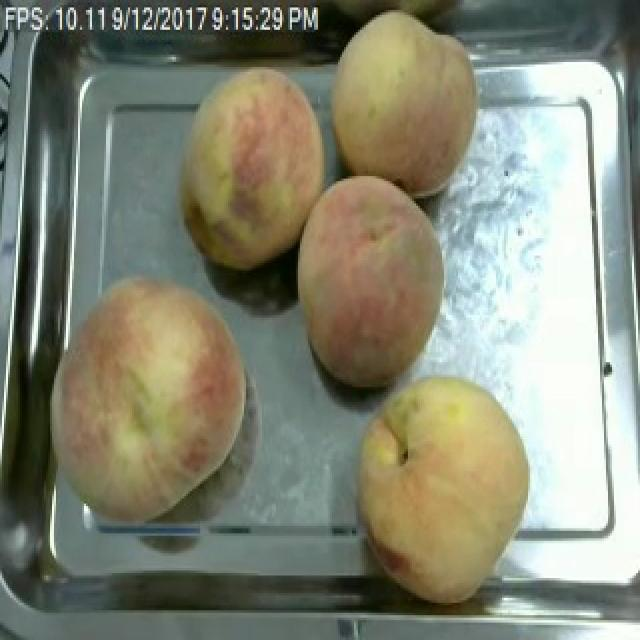Fruit: (32, 263, 260, 533), (342, 364, 542, 612), (170, 59, 348, 278), (286, 169, 454, 397), (322, 2, 488, 206)
